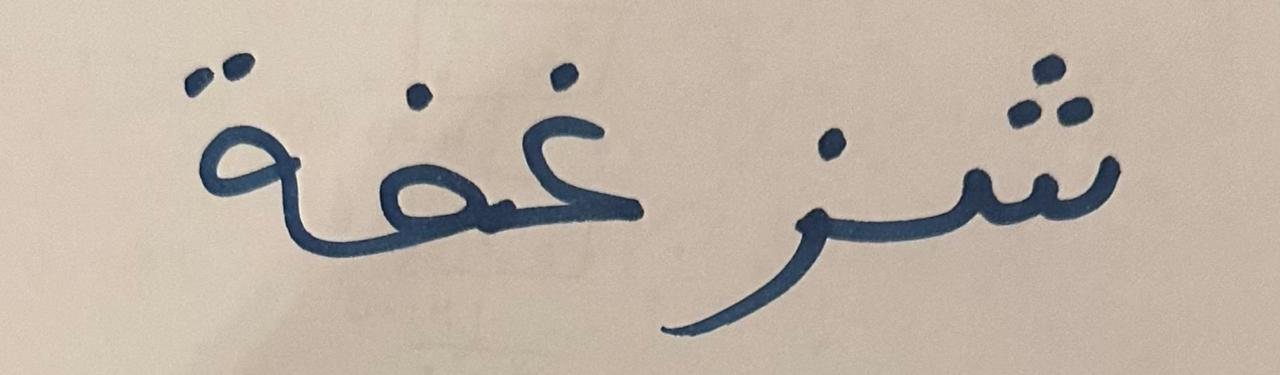feh: (335, 30, 501, 336)
ghain: (505, 17, 652, 313)
hamza: (657, 59, 876, 359)
tah: (880, 12, 1163, 316)
thal: (166, 4, 330, 336)
